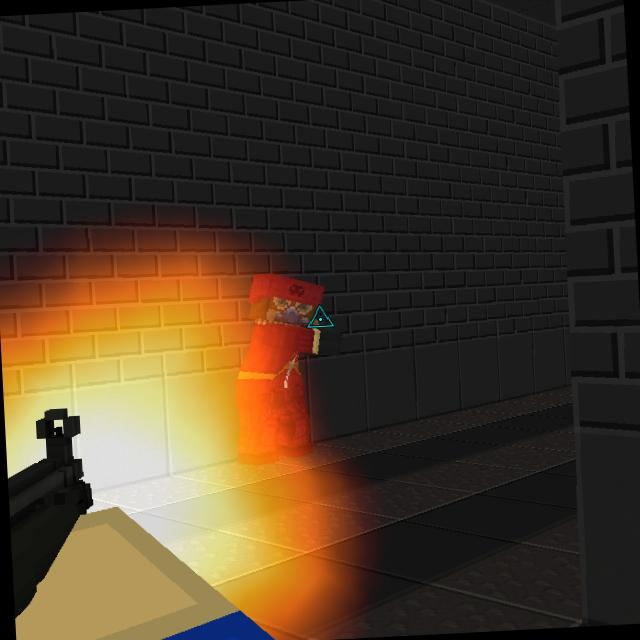enemy: (222, 263, 336, 470)
